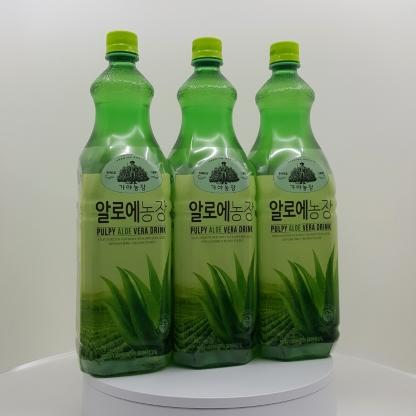-------1-5L: (75, 30, 172, 376), (162, 37, 257, 369), (245, 41, 340, 361)
